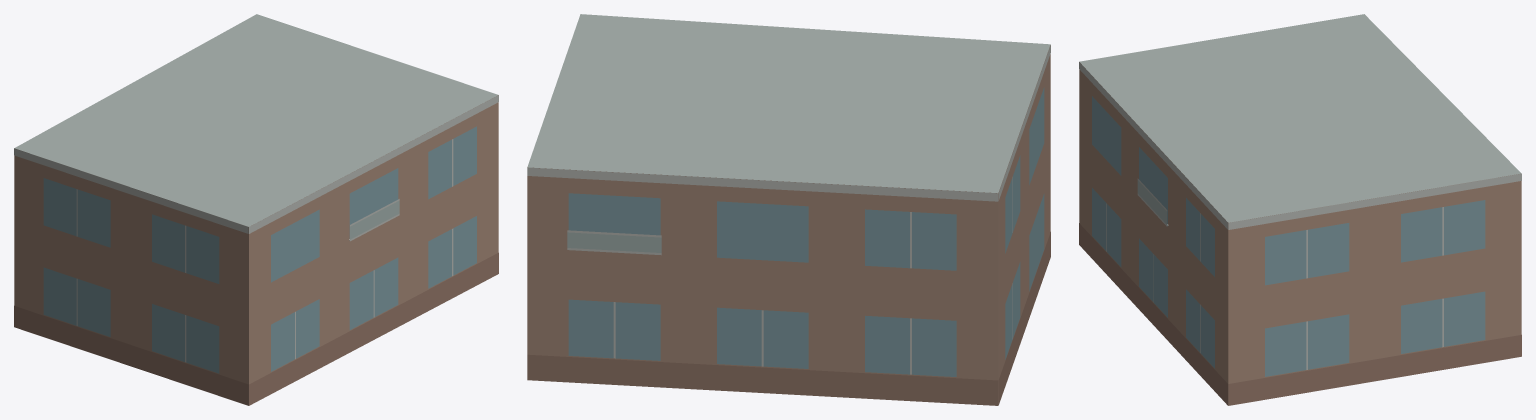
File: survey-upis-32847139.glb
The picture shows the model from 3 angles, left to right: view 1: azimuth 30°, elevation 25°; view 2: azimuth 150°, elevation 25°; view 3: azimuth 270°, elevation 25°; orthographic projection. The views are drawn at different scales.
Visible parts, largest first — view 1: survey-upis-32847139.tmp; view 2: survey-upis-32847139.tmp; view 3: survey-upis-32847139.tmp.
Part boxes in pixels (x1=…): survey-upis-32847139.tmp: x1=14, y1=14, x2=498, y2=405; survey-upis-32847139.tmp: x1=527, y1=14, x2=1050, y2=405; survey-upis-32847139.tmp: x1=1079, y1=14, x2=1521, y2=405.
Size of the model in its own units: 14.93 by 6.1 by 13.37.
